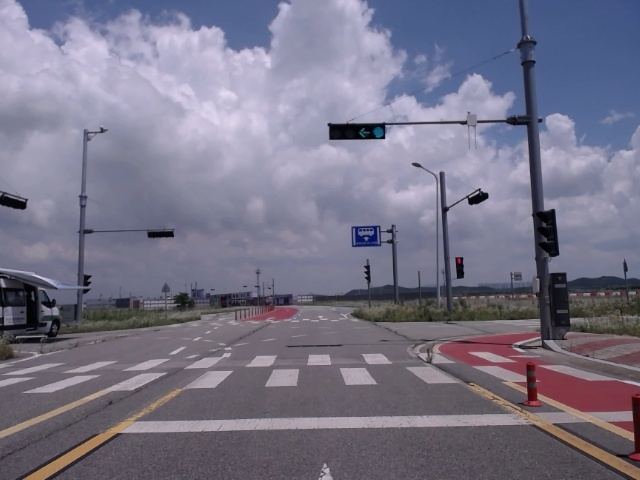all_green_4: (330, 124, 387, 138)
